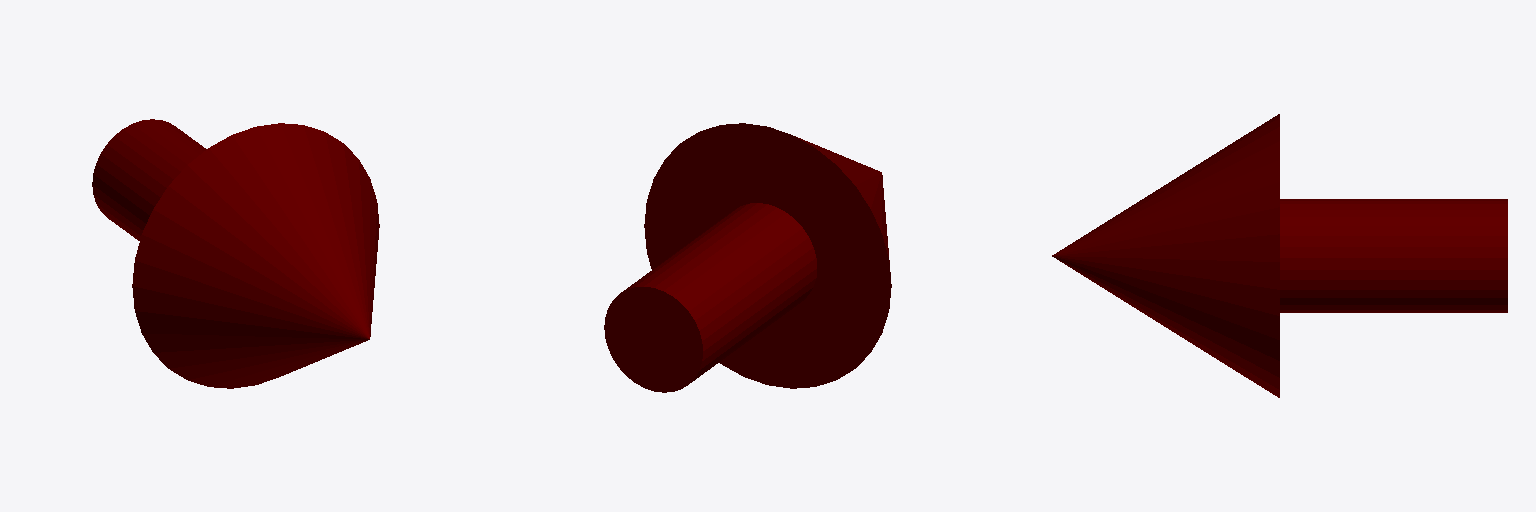
File: Arrow_Straight.obj
The picture shows the model from 3 angles: view 1: azimuth 30°, elevation 25°; view 2: azimuth 150°, elevation 25°; view 3: azimuth 270°, elevation 25°; orthographic projection.
Visible parts, largest first — view 1: Cylinder.002; view 2: Cylinder.002; view 3: Cylinder.002.
Part boxes in pixels (x1,y1,x2,y2): Cylinder.002: (92,119,379,388); Cylinder.002: (604,123,891,392); Cylinder.002: (1052,114,1507,397).
Bounding box in the file's own units: 5 × 5 × 8.